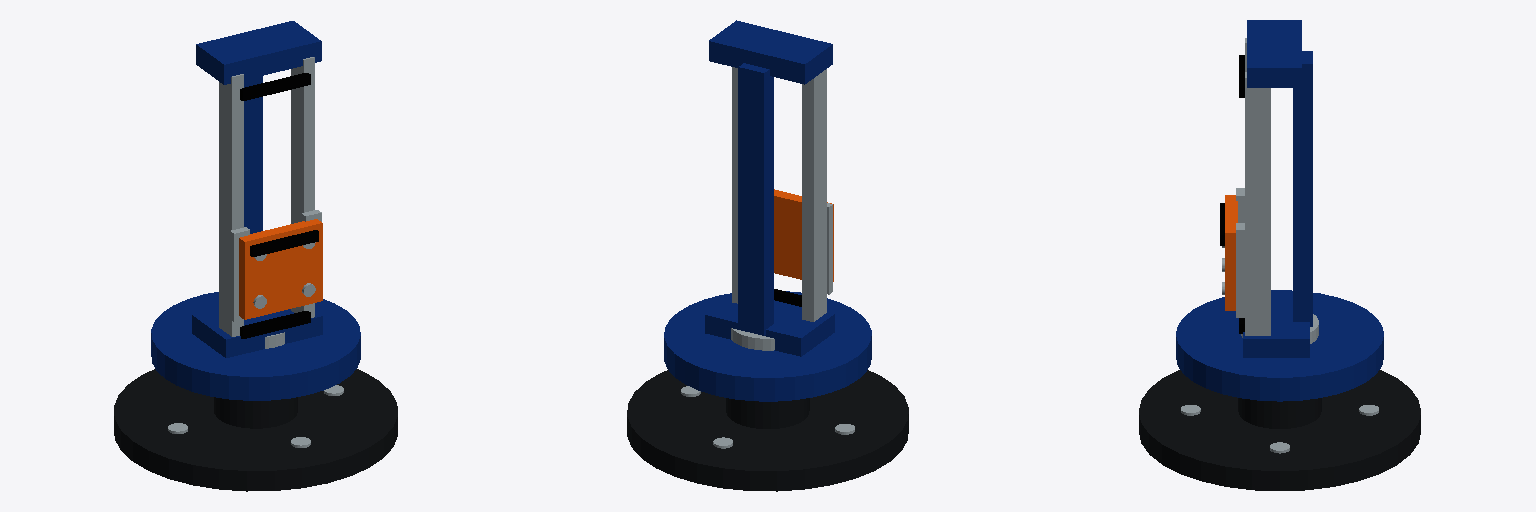
The robot description file, URDF, robot "pedestal_rotary_lift":
<robot name="pedestal_rotary_lift">
  <material name="dark_steel">
    <color rgba="0.1 0.11 0.12 1" />
    </material>
  <material name="blue_steel">
    <color rgba="0.06 0.2 0.48 1" />
    </material>
  <material name="zinc_plated">
    <color rgba="0.62 0.66 0.68 1" />
    </material>
  <material name="black_rubber">
    <color rgba="0.015 0.015 0.014 1" />
    </material>
  <material name="safety_orange">
    <color rgba="0.92 0.38 0.06 1" />
    </material>
  <link name="foot">
    <visual name="floor_disk">
      <origin xyz="0 0 0.03" rpy="0 0 0" />
      <geometry>
        <cylinder radius="0.38" length="0.06" />
        </geometry>
      <material name="dark_steel">
        <color rgba="0.1 0.11 0.12 1" />
        </material>
      </visual>
    <visual name="pedestal_column">
      <origin xyz="0 0 0.14" rpy="0 0 0" />
      <geometry>
        <cylinder radius="0.112" length="0.16" />
        </geometry>
      <material name="dark_steel">
        <color rgba="0.1 0.11 0.12 1" />
        </material>
      </visual>
    <visual name="bearing_housing">
      <origin xyz="0 0 0.2025" rpy="0 0 0" />
      <geometry>
        <cylinder radius="0.185" length="0.035" />
        </geometry>
      <material name="zinc_plated">
        <color rgba="0.62 0.66 0.68 1" />
        </material>
      </visual>
    <visual name="anchor_bolt_0">
      <origin xyz="0.24 0 0.061" rpy="0 0 0" />
      <geometry>
        <cylinder radius="0.027" length="0.014" />
        </geometry>
      <material name="zinc_plated">
        <color rgba="0.62 0.66 0.68 1" />
        </material>
      </visual>
    <visual name="anchor_bolt_1">
      <origin xyz="-0.24 0 0.061" rpy="0 0 0" />
      <geometry>
        <cylinder radius="0.027" length="0.014" />
        </geometry>
      <material name="zinc_plated">
        <color rgba="0.62 0.66 0.68 1" />
        </material>
      </visual>
    <visual name="anchor_bolt_2">
      <origin xyz="0 0.24 0.061" rpy="0 0 0" />
      <geometry>
        <cylinder radius="0.027" length="0.014" />
        </geometry>
      <material name="zinc_plated">
        <color rgba="0.62 0.66 0.68 1" />
        </material>
      </visual>
    <visual name="anchor_bolt_3">
      <origin xyz="0 -0.24 0.061" rpy="0 0 0" />
      <geometry>
        <cylinder radius="0.027" length="0.014" />
        </geometry>
      <material name="zinc_plated">
        <color rgba="0.62 0.66 0.68 1" />
        </material>
      </visual>
    <collision name="floor_disk">
      <origin xyz="0 0 0.03" rpy="0 0 0" />
      <geometry>
        <cylinder radius="0.38" length="0.06" />
        </geometry>
      </collision>
    <collision name="pedestal_column">
      <origin xyz="0 0 0.14" rpy="0 0 0" />
      <geometry>
        <cylinder radius="0.112" length="0.16" />
        </geometry>
      </collision>
    <collision name="bearing_housing">
      <origin xyz="0 0 0.2025" rpy="0 0 0" />
      <geometry>
        <cylinder radius="0.185" length="0.035" />
        </geometry>
      </collision>
    <collision name="anchor_bolt_0">
      <origin xyz="0.24 0 0.061" rpy="0 0 0" />
      <geometry>
        <cylinder radius="0.027" length="0.014" />
        </geometry>
      </collision>
    <collision name="anchor_bolt_1">
      <origin xyz="-0.24 0 0.061" rpy="0 0 0" />
      <geometry>
        <cylinder radius="0.027" length="0.014" />
        </geometry>
      </collision>
    <collision name="anchor_bolt_2">
      <origin xyz="0 0.24 0.061" rpy="0 0 0" />
      <geometry>
        <cylinder radius="0.027" length="0.014" />
        </geometry>
      </collision>
    <collision name="anchor_bolt_3">
      <origin xyz="0 -0.24 0.061" rpy="0 0 0" />
      <geometry>
        <cylinder radius="0.027" length="0.014" />
        </geometry>
      </collision>
    </link>
  <link name="platform">
    <visual name="turntable_disk">
      <origin xyz="0 0 0.035" rpy="0 0 0" />
      <geometry>
        <cylinder radius="0.28" length="0.07" />
        </geometry>
      <material name="blue_steel">
        <color rgba="0.06 0.2 0.48 1" />
        </material>
      </visual>
    <visual name="rotary_cap">
      <origin xyz="0 0 0.0875" rpy="0 0 0" />
      <geometry>
        <cylinder radius="0.105" length="0.035" />
        </geometry>
      <material name="zinc_plated">
        <color rgba="0.62 0.66 0.68 1" />
        </material>
      </visual>
    <visual name="guide_foot">
      <origin xyz="0 -0.01 0.095" rpy="0 0 0" />
      <geometry>
        <box size="0.3 0.18 0.06" />
        </geometry>
      <material name="blue_steel">
        <color rgba="0.06 0.2 0.48 1" />
        </material>
      </visual>
    <visual name="rail_0">
      <origin xyz="-0.11 -0.06 0.5" rpy="0 0 0" />
      <geometry>
        <box size="0.035 0.07 0.78" />
        </geometry>
      <material name="zinc_plated">
        <color rgba="0.62 0.66 0.68 1" />
        </material>
      </visual>
    <visual name="rail_1">
      <origin xyz="0.11 -0.06 0.5" rpy="0 0 0" />
      <geometry>
        <box size="0.035 0.07 0.78" />
        </geometry>
      <material name="zinc_plated">
        <color rgba="0.62 0.66 0.68 1" />
        </material>
      </visual>
    <visual name="rear_spine">
      <origin xyz="0 0.062 0.5" rpy="0 0 0" />
      <geometry>
        <box size="0.08 0.055 0.78" />
        </geometry>
      <material name="blue_steel">
        <color rgba="0.06 0.2 0.48 1" />
        </material>
      </visual>
    <visual name="top_bridge">
      <origin xyz="0 -0.015 0.9" rpy="0 0 0" />
      <geometry>
        <box size="0.3 0.15 0.06" />
        </geometry>
      <material name="blue_steel">
        <color rgba="0.06 0.2 0.48 1" />
        </material>
      </visual>
    <visual name="lower_stop">
      <origin xyz="0 -0.102 0.135" rpy="0 0 0" />
      <geometry>
        <box size="0.21 0.018 0.03" />
        </geometry>
      <material name="black_rubber">
        <color rgba="0.015 0.015 0.014 1" />
        </material>
      </visual>
    <visual name="upper_stop">
      <origin xyz="0 -0.102 0.835" rpy="0 0 0" />
      <geometry>
        <box size="0.21 0.018 0.03" />
        </geometry>
      <material name="black_rubber">
        <color rgba="0.015 0.015 0.014 1" />
        </material>
      </visual>
    <collision name="turntable_disk">
      <origin xyz="0 0 0.035" rpy="0 0 0" />
      <geometry>
        <cylinder radius="0.28" length="0.07" />
        </geometry>
      </collision>
    <collision name="rotary_cap">
      <origin xyz="0 0 0.0875" rpy="0 0 0" />
      <geometry>
        <cylinder radius="0.105" length="0.035" />
        </geometry>
      </collision>
    <collision name="guide_foot">
      <origin xyz="0 -0.01 0.095" rpy="0 0 0" />
      <geometry>
        <box size="0.3 0.18 0.06" />
        </geometry>
      </collision>
    <collision name="rail_0">
      <origin xyz="-0.11 -0.06 0.5" rpy="0 0 0" />
      <geometry>
        <box size="0.035 0.07 0.78" />
        </geometry>
      </collision>
    <collision name="rail_1">
      <origin xyz="0.11 -0.06 0.5" rpy="0 0 0" />
      <geometry>
        <box size="0.035 0.07 0.78" />
        </geometry>
      </collision>
    <collision name="rear_spine">
      <origin xyz="0 0.062 0.5" rpy="0 0 0" />
      <geometry>
        <box size="0.08 0.055 0.78" />
        </geometry>
      </collision>
    <collision name="top_bridge">
      <origin xyz="0 -0.015 0.9" rpy="0 0 0" />
      <geometry>
        <box size="0.3 0.15 0.06" />
        </geometry>
      </collision>
    <collision name="lower_stop">
      <origin xyz="0 -0.102 0.135" rpy="0 0 0" />
      <geometry>
        <box size="0.21 0.018 0.03" />
        </geometry>
      </collision>
    <collision name="upper_stop">
      <origin xyz="0 -0.102 0.835" rpy="0 0 0" />
      <geometry>
        <box size="0.21 0.018 0.03" />
        </geometry>
      </collision>
    </link>
  <link name="front_plate">
    <visual name="plate_panel">
      <origin xyz="0 -0.035 0" rpy="0 0 0" />
      <geometry>
        <box size="0.24 0.035 0.23" />
        </geometry>
      <material name="safety_orange">
        <color rgba="0.92 0.38 0.06 1" />
        </material>
      </visual>
    <visual name="shoe_0">
      <origin xyz="-0.11 -0.011 0" rpy="0 0 0" />
      <geometry>
        <box size="0.05 0.022 0.26" />
        </geometry>
      <material name="zinc_plated">
        <color rgba="0.62 0.66 0.68 1" />
        </material>
      </visual>
    <visual name="shoe_1">
      <origin xyz="0.11 -0.011 0" rpy="0 0 0" />
      <geometry>
        <box size="0.05 0.022 0.26" />
        </geometry>
      <material name="zinc_plated">
        <color rgba="0.62 0.66 0.68 1" />
        </material>
      </visual>
    <visual name="grip_bar">
      <origin xyz="0 -0.059 0.085" rpy="0 0 0" />
      <geometry>
        <box size="0.205 0.012 0.03" />
        </geometry>
      <material name="black_rubber">
        <color rgba="0.015 0.015 0.014 1" />
        </material>
      </visual>
    <visual name="face_bolt_0">
      <origin xyz="-0.075 -0.057 -0.07" rpy="1.5708 0 0" />
      <geometry>
        <cylinder radius="0.018" length="0.01" />
        </geometry>
      <material name="zinc_plated">
        <color rgba="0.62 0.66 0.68 1" />
        </material>
      </visual>
    <visual name="face_bolt_1">
      <origin xyz="0.075 -0.057 -0.07" rpy="1.5708 0 0" />
      <geometry>
        <cylinder radius="0.018" length="0.01" />
        </geometry>
      <material name="zinc_plated">
        <color rgba="0.62 0.66 0.68 1" />
        </material>
      </visual>
    <visual name="face_bolt_2">
      <origin xyz="-0.075 -0.057 0.07" rpy="1.5708 0 0" />
      <geometry>
        <cylinder radius="0.018" length="0.01" />
        </geometry>
      <material name="zinc_plated">
        <color rgba="0.62 0.66 0.68 1" />
        </material>
      </visual>
    <visual name="face_bolt_3">
      <origin xyz="0.075 -0.057 0.07" rpy="1.5708 0 0" />
      <geometry>
        <cylinder radius="0.018" length="0.01" />
        </geometry>
      <material name="zinc_plated">
        <color rgba="0.62 0.66 0.68 1" />
        </material>
      </visual>
    <collision name="plate_panel">
      <origin xyz="0 -0.035 0" rpy="0 0 0" />
      <geometry>
        <box size="0.24 0.035 0.23" />
        </geometry>
      </collision>
    <collision name="shoe_0">
      <origin xyz="-0.11 -0.011 0" rpy="0 0 0" />
      <geometry>
        <box size="0.05 0.022 0.26" />
        </geometry>
      </collision>
    <collision name="shoe_1">
      <origin xyz="0.11 -0.011 0" rpy="0 0 0" />
      <geometry>
        <box size="0.05 0.022 0.26" />
        </geometry>
      </collision>
    <collision name="grip_bar">
      <origin xyz="0 -0.059 0.085" rpy="0 0 0" />
      <geometry>
        <box size="0.205 0.012 0.03" />
        </geometry>
      </collision>
    <collision name="face_bolt_0">
      <origin xyz="-0.075 -0.057 -0.07" rpy="1.5708 0 0" />
      <geometry>
        <cylinder radius="0.018" length="0.01" />
        </geometry>
      </collision>
    <collision name="face_bolt_1">
      <origin xyz="0.075 -0.057 -0.07" rpy="1.5708 0 0" />
      <geometry>
        <cylinder radius="0.018" length="0.01" />
        </geometry>
      </collision>
    <collision name="face_bolt_2">
      <origin xyz="-0.075 -0.057 0.07" rpy="1.5708 0 0" />
      <geometry>
        <cylinder radius="0.018" length="0.01" />
        </geometry>
      </collision>
    <collision name="face_bolt_3">
      <origin xyz="0.075 -0.057 0.07" rpy="1.5708 0 0" />
      <geometry>
        <cylinder radius="0.018" length="0.01" />
        </geometry>
      </collision>
    </link>
  <joint name="foot_to_platform" type="revolute">
    <origin xyz="0 0 0.22" rpy="0 0 0" />
    <parent link="foot" />
    <child link="platform" />
    <axis xyz="0 0 1" />
    <limit effort="90" velocity="1.2" lower="-3.14159" upper="3.14159" />
    </joint>
  <joint name="platform_to_front_plate" type="prismatic">
    <origin xyz="0 -0.095 0.31" rpy="0 0 0" />
    <parent link="platform" />
    <child link="front_plate" />
    <axis xyz="0 0 1" />
    <limit effort="120" velocity="0.25" lower="0" upper="0.32" />
    </joint>
  </robot>

--- Facts derived from the render (not from the file) ---
The picture shows the robot from 3 angles, left to right: view 1: azimuth 30°, elevation 25°; view 2: azimuth 150°, elevation 25°; view 3: azimuth 270°, elevation 25°; orthographic projection.
Robot: pedestal_rotary_lift — 3 links, 2 joints (1 revolute, 1 prismatic); root link foot; default pose: every joint at zero.
Visible links, largest first — view 1: platform, foot, front_plate; view 2: platform, foot, front_plate; view 3: platform, foot, front_plate.
Boxes of the visible links, x1,y1,x2,y2 form: platform: [151, 21, 360, 400]; foot: [114, 369, 397, 491]; front_plate: [230, 210, 322, 321]; platform: [664, 20, 871, 401]; foot: [627, 370, 908, 491]; front_plate: [774, 189, 833, 294]; platform: [1176, 20, 1383, 401]; foot: [1139, 370, 1420, 490]; front_plate: [1220, 188, 1244, 317].
Size in the robot's own frame: 0.76 by 0.76 by 1.15 metres.
Geometry: primitives only (box / cylinder / sphere), no mesh files.
